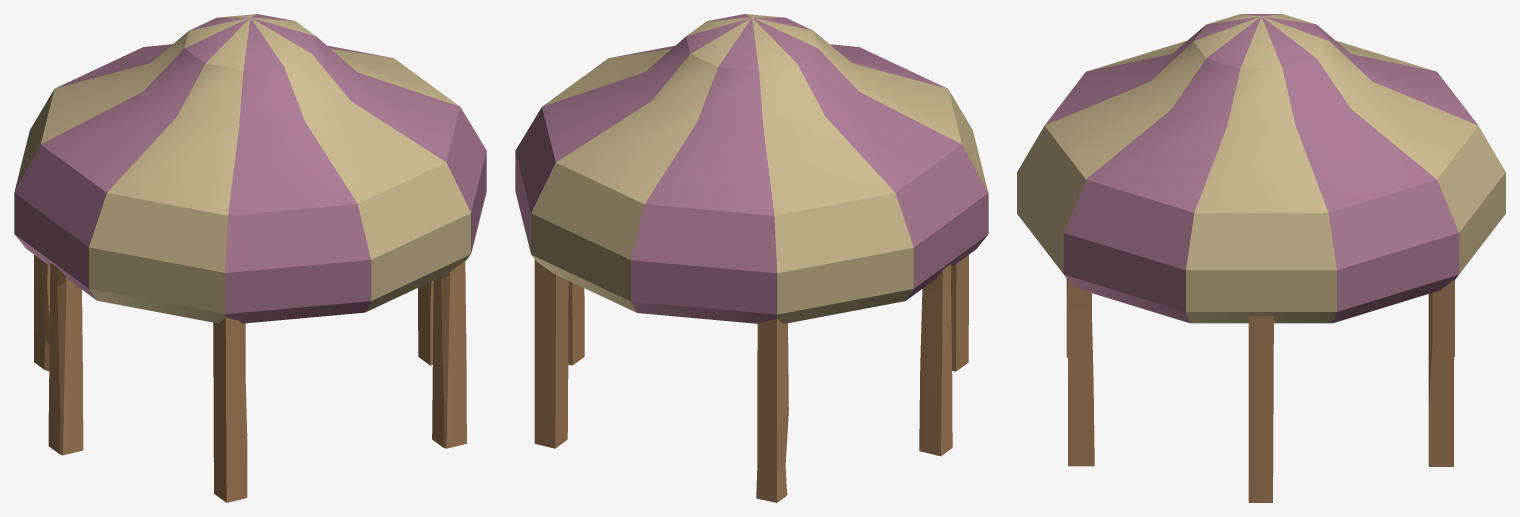
File: Tent_B.fbx
3 renders of one model, left to right at view 1: azimuth 30°, elevation 25°; view 2: azimuth 150°, elevation 25°; view 3: azimuth 270°, elevation 25°, orthographic.
Parts seen in each view (by area): view 1: Tent_B; view 2: Tent_B; view 3: Tent_B.
Boxes of the visible parts, box(x1,y1,x2,y2) form: Tent_B: box(14, 14, 486, 502); Tent_B: box(515, 14, 988, 502); Tent_B: box(1017, 14, 1505, 502).
Bounding box in the file's own units: 244 × 226 × 257.
